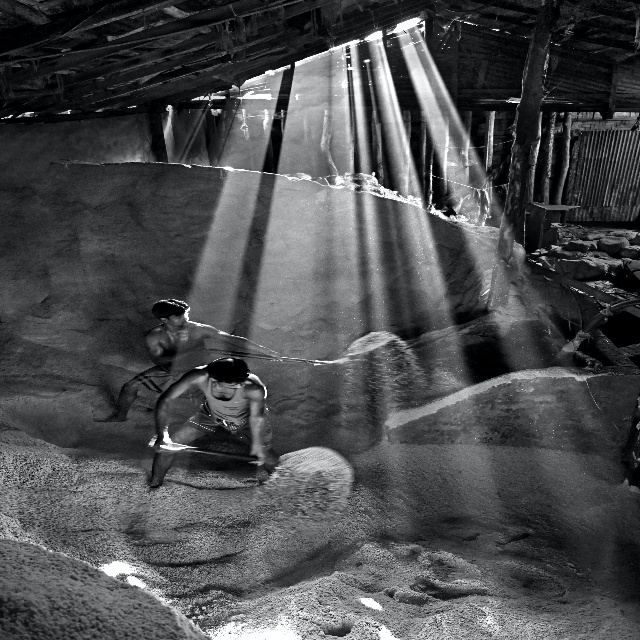Sin_guantes: (152, 438, 166, 453), (267, 350, 282, 363)
